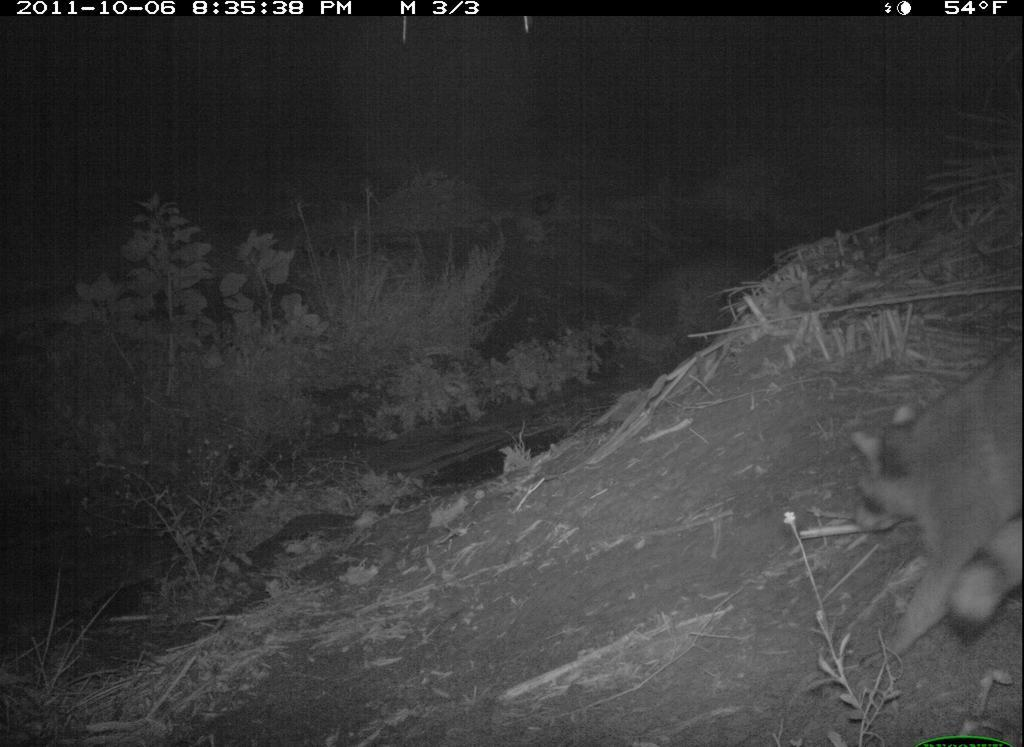raccoon: (841, 329, 1023, 677)
